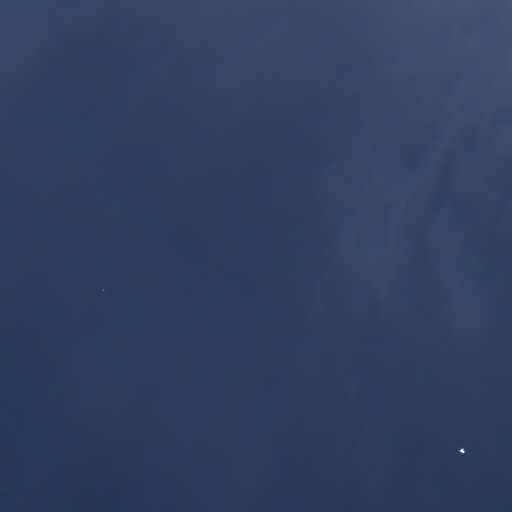Iceberg: (459, 448, 464, 453), (102, 289, 104, 290)
